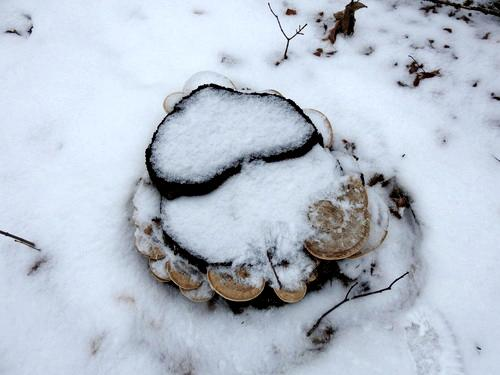Ganoderma - Fruit Body: (303, 176, 377, 257), (209, 262, 312, 302), (129, 178, 166, 282), (165, 71, 238, 112), (302, 107, 340, 152), (169, 257, 205, 290)
